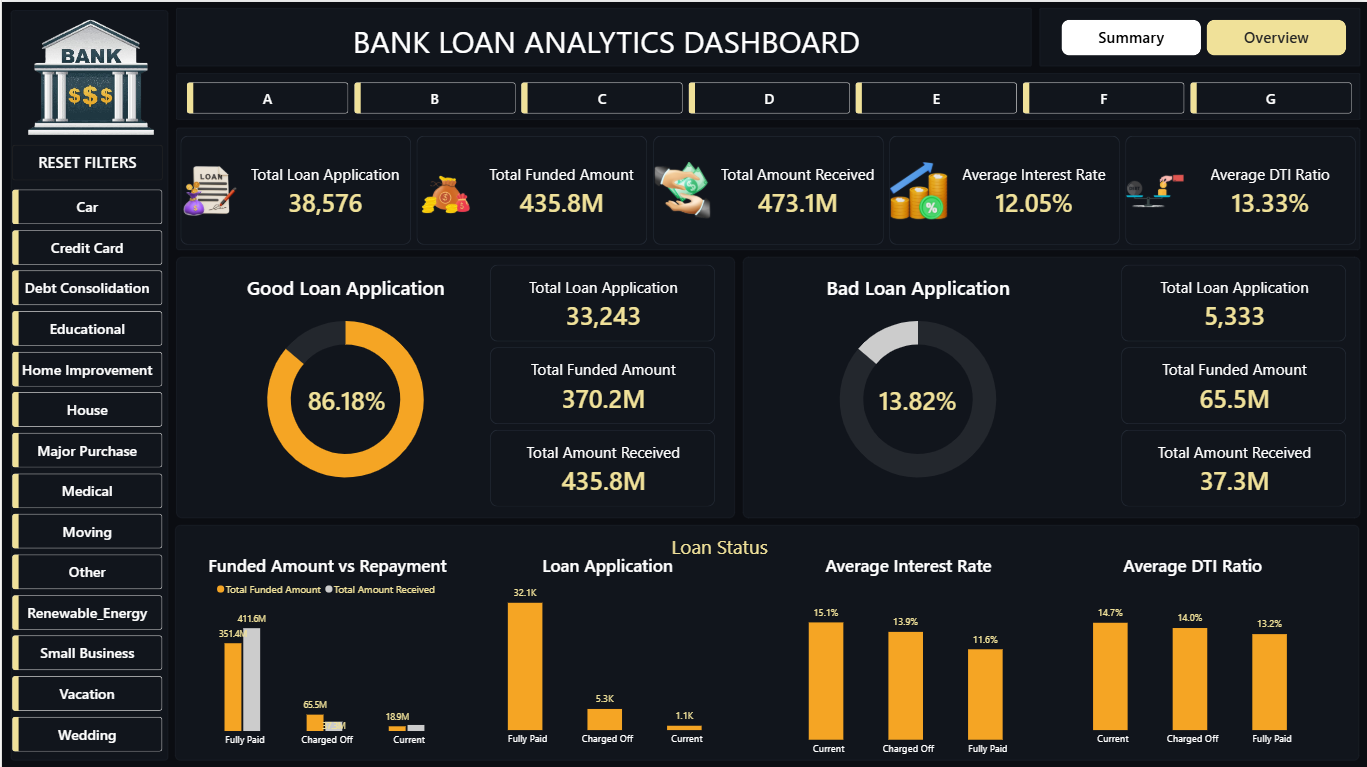

The page's visual inventory and layout, read from the dashboard file:
{"tool":"powerbi","page":{"name":"Summary","canvas":[1920,1080],"ordinal":0},"visuals":[{"type":"cardVisual","fields":{"Data":["financial_loan.Total Loan Application","financial_loan.Total Funded Amount","financial_loan.Total Amount Received","financial_loan.Average Interest Rate","financial_loan.Average DTI Rate"]},"box":[250,187.8,1653.3,153.3],"z":0},{"type":"donutChart","title":"Good Loan Application","fields":{"Category":["financial_loan.Good_vs_Bad_Loan"],"Y":["financial_loan.Total Loan Application"]},"box":[272.9,368.6,421.4,342.9],"z":1000},{"type":"donutChart","title":"Bad Loan Application","fields":{"Category":["financial_loan.Good_vs_Bad_Loan"],"Y":["financial_loan.Total Loan Application"]},"box":[1077.1,368.6,421.4,342.9],"z":2000},{"type":"cardVisual","fields":{"Data":["financial_loan.Good Loan %"]},"box":[394.3,514.3,180,88.6],"z":3000},{"type":"cardVisual","fields":{"Data":["financial_loan.Bad Loan %"]},"box":[1197.1,514.3,180,88.6],"z":4000},{"type":"cardVisual","fields":{"Data":["financial_loan.Total Loan Application","financial_loan.Total Funded Amount","financial_loan.Total Amount Received"],"Rows":["financial_loan.Good_vs_Bad_Loan"]},"box":[651.4,368.6,350,342.9],"z":5000},{"type":"cardVisual","fields":{"Data":["financial_loan.Total Loan Application","financial_loan.Total Funded Amount","financial_loan.Total Amount Received"],"Rows":["financial_loan.Good_vs_Bad_Loan"]},"box":[1538.6,368.6,350,342.9],"z":6000},{"type":"clusteredColumnChart","title":"Funded Amount vs Repayment","fields":{"Category":["financial_loan.LOAN_STATUS"],"Y":["financial_loan.Total Funded Amount","financial_loan.Total Amount Received"]},"box":[250,761.4,412.9,305.7],"z":7000},{"type":"clusteredColumnChart","title":"Loan Application","fields":{"Category":["financial_loan.LOAN_STATUS"],"Y":["financial_loan.Total Loan Application"]},"box":[651.2,761.2,401.2,305],"z":8000},{"type":"textbox","box":[941.2,747.5,222.5,112.5],"z":9000},{"type":"clusteredColumnChart","title":"Average Interest Rate","fields":{"Category":["financial_loan.LOAN_STATUS"],"Y":["financial_loan.Average Interest Rate"]},"box":[1072.9,761.4,401.4,318.6],"z":10000},{"type":"clusteredColumnChart","title":"Average DTI Ratio","fields":{"Category":["financial_loan.LOAN_STATUS"],"Y":["financial_loan.Average DTI Ratio"]},"box":[1473.8,761.2,401.2,305],"z":11000},{"type":"image","box":[0,0,250,210],"z":12000},{"type":"advancedSlicerVisual","fields":{"Values":["financial_loan.PURPOSE"]},"box":[14.3,264.3,211.4,802.9],"z":13000},{"type":"advancedSlicerVisual","fields":{"Values":["financial_loan.GRADE"]},"box":[260,113,1643,44],"z":14000},{"type":"actionButton","box":[14.3,200,211.4,50],"z":15000},{"type":"textbox","box":[250,24.3,1197.1,68.6],"z":16000},{"type":"pageNavigator","box":[1488.6,24.3,400,50],"z":17000}]}

Visuals, with their boxes in screenshot pixels (x1, y1, x2, y2), scaled from the page's 1920x1080 canvas onto the 1367x767 screenshot:
cardVisual - financial_loan.Total Loan Application x financial_loan.Total Funded Amount: x1=178 y1=133 x2=1355 y2=242
"Good Loan Application" donutChart: x1=194 y1=262 x2=494 y2=505
"Bad Loan Application" donutChart: x1=767 y1=262 x2=1067 y2=505
cardVisual - financial_loan.Good Loan %: x1=281 y1=365 x2=409 y2=428
cardVisual - financial_loan.Bad Loan %: x1=852 y1=365 x2=980 y2=428
cardVisual - financial_loan.Total Loan Application x financial_loan.Total Funded Amount: x1=464 y1=262 x2=713 y2=505
cardVisual - financial_loan.Total Loan Application x financial_loan.Total Funded Amount: x1=1095 y1=262 x2=1345 y2=505
"Funded Amount vs Repayment" clusteredColumnChart: x1=178 y1=541 x2=472 y2=758
"Loan Application" clusteredColumnChart: x1=464 y1=541 x2=749 y2=757
textbox: x1=670 y1=531 x2=829 y2=611
"Average Interest Rate" clusteredColumnChart: x1=764 y1=541 x2=1050 y2=766
"Average DTI Ratio" clusteredColumnChart: x1=1049 y1=541 x2=1335 y2=757
image: x1=0 y1=0 x2=178 y2=149
advancedSlicerVisual - financial_loan.PURPOSE: x1=10 y1=188 x2=161 y2=758
advancedSlicerVisual - financial_loan.GRADE: x1=185 y1=80 x2=1355 y2=111
actionButton: x1=10 y1=142 x2=161 y2=178
textbox: x1=178 y1=17 x2=1030 y2=66
pageNavigator: x1=1060 y1=17 x2=1345 y2=53
